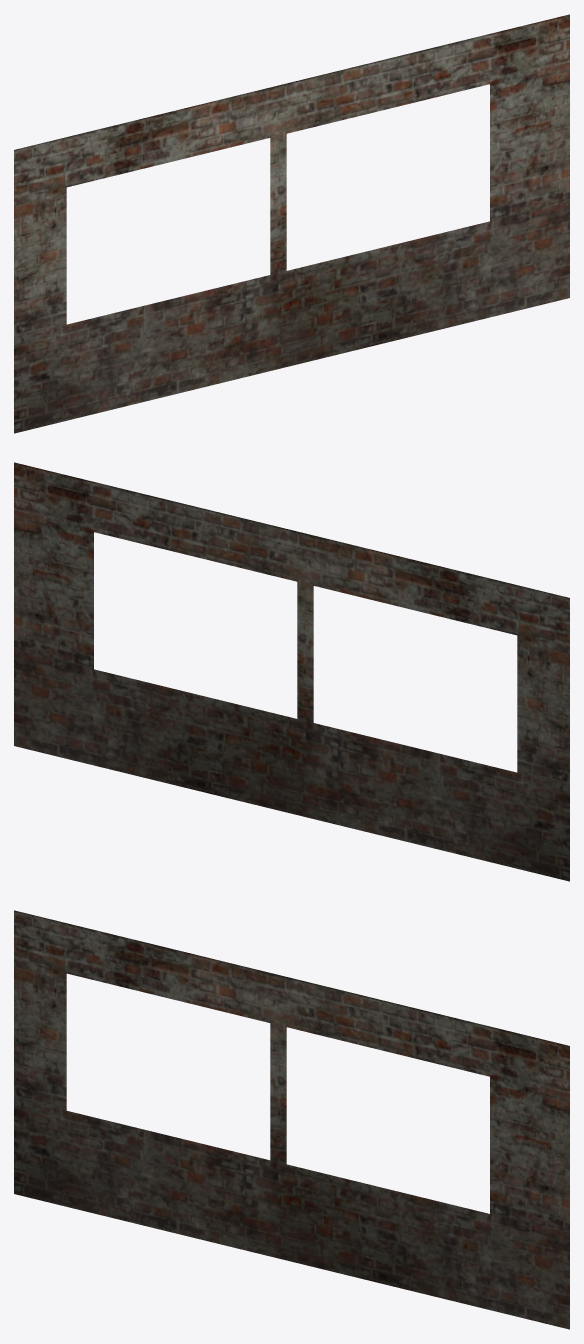
The model's file is BrickWall_Lower.FBX.
3 views of the same model, one above another, from view 1: azimuth 30°, elevation 25°; view 2: azimuth 150°, elevation 25°; view 3: azimuth 330°, elevation 25° (orthographic).
Visible parts, largest first — view 1: BrickWall_Lower; view 2: BrickWall_Lower; view 3: BrickWall_Lower.
Boxes of the visible parts, <box> form: BrickWall_Lower: <box>14,14,569,433</box>; BrickWall_Lower: <box>14,462,569,881</box>; BrickWall_Lower: <box>14,910,569,1329</box>.
Size of the model in its own units: 764 by 372 by 0.000221.
